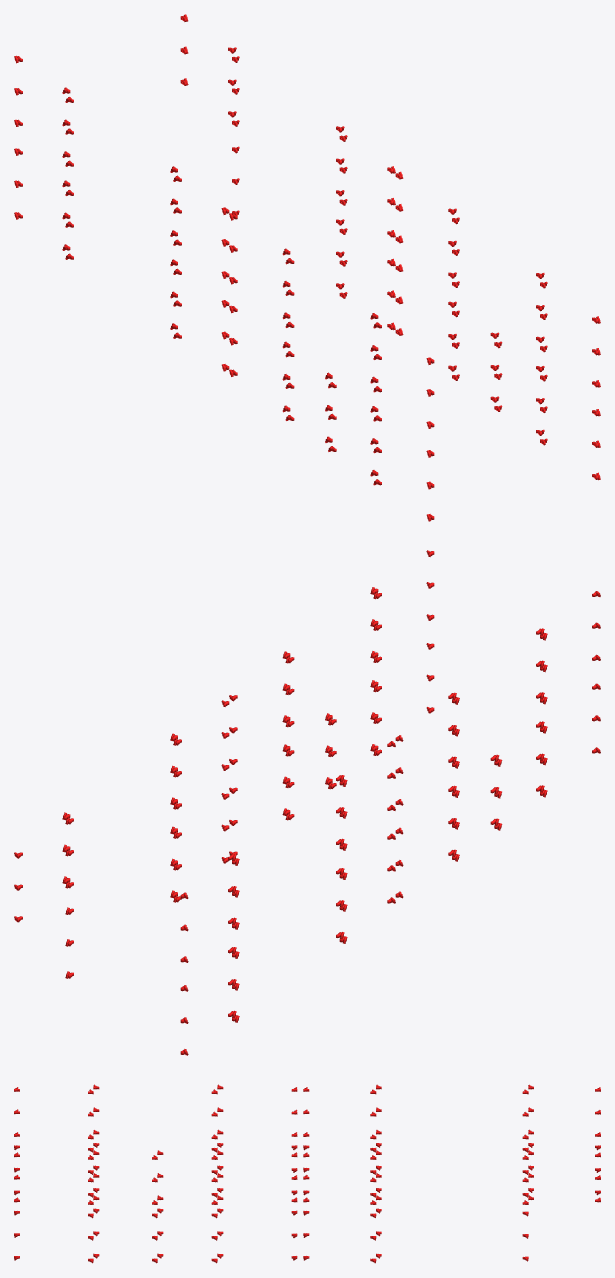
The model's file is barashkiLow.FBX.
3 views of the same model, one above another, from view 1: azimuth 30°, elevation 25°; view 2: azimuth 150°, elevation 25°; view 3: azimuth 270°, elevation 25° (orthographic). The views are drawn at different scales.
Visible parts, largest first — view 1: barashkiLow; view 2: barashkiLow; view 3: barashkiLow.
Boxes of the visible parts, x1,y1,x2,y2 form: barashkiLow: [14, 14, 600, 521]; barashkiLow: [14, 550, 600, 1055]; barashkiLow: [14, 1084, 600, 1263].
Bounding box in the file's own units: 1060 × 1003 × 4448.
